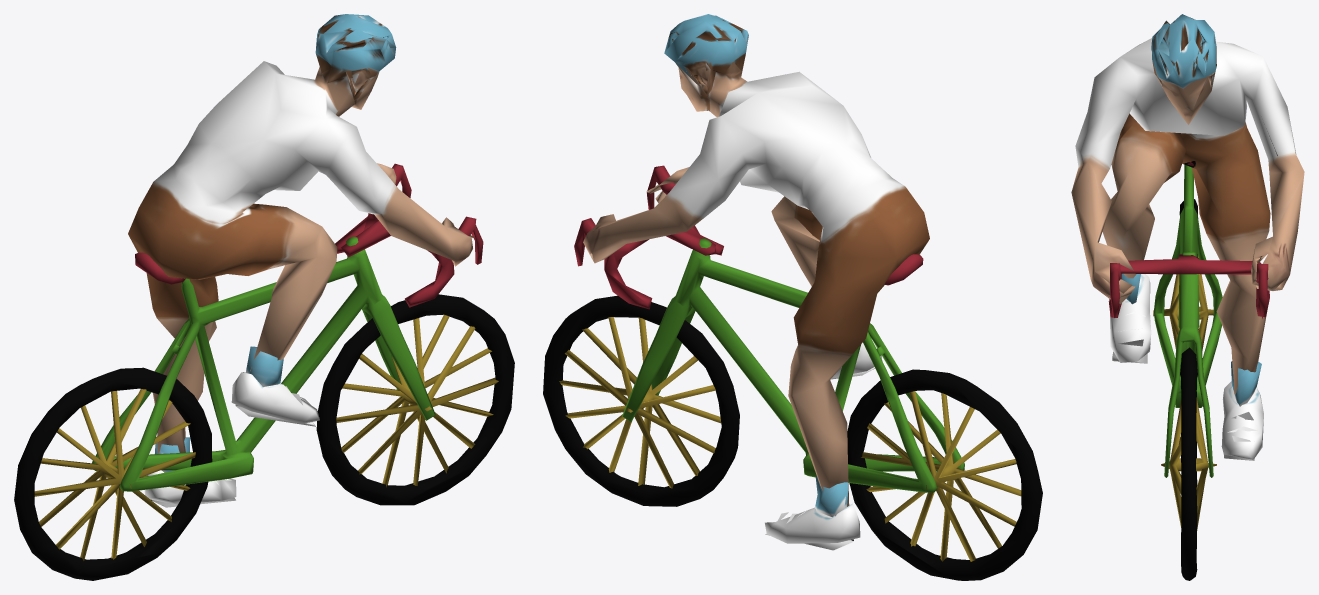
The model's file is Cyclist.fbx.
3 views of the same model, side by side, from view 1: azimuth 30°, elevation 25°; view 2: azimuth 150°, elevation 25°; view 3: azimuth 270°, elevation 25° (orthographic). The views are drawn at different scales.
Visible parts, largest first — view 1: Cyclist; view 2: Cyclist; view 3: Cyclist.
Part boxes in pixels (left/top/right/bottom): Cyclist: left=14, top=14, right=514, bottom=580; Cyclist: left=543, top=14, right=1042, bottom=580; Cyclist: left=1071, top=14, right=1304, bottom=580.
Size of the model in its own units: 226 by 219 by 88.98.
1 material, 1 textured.
